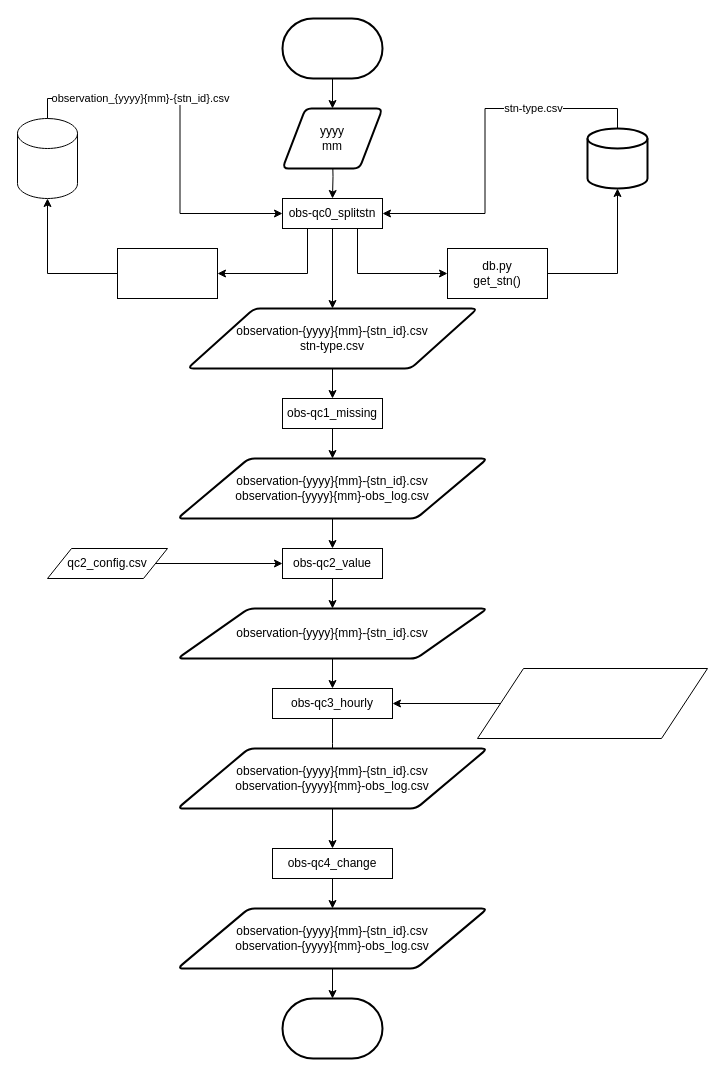
Image size: 725x1076. Some labels were removed from this diagram. Here are the shapes that lost their labels. From the top down, the centre of each, then its label:
(x=332, y=48): Start
(x=47, y=158): Weather
(x=617, y=158): stations
(x=167, y=273): db.py get_data()
(x=592, y=703): qc4_config_greater.csv qc4_config_lesser.csv qc4_config_sd.csv
(x=332, y=1028): End
